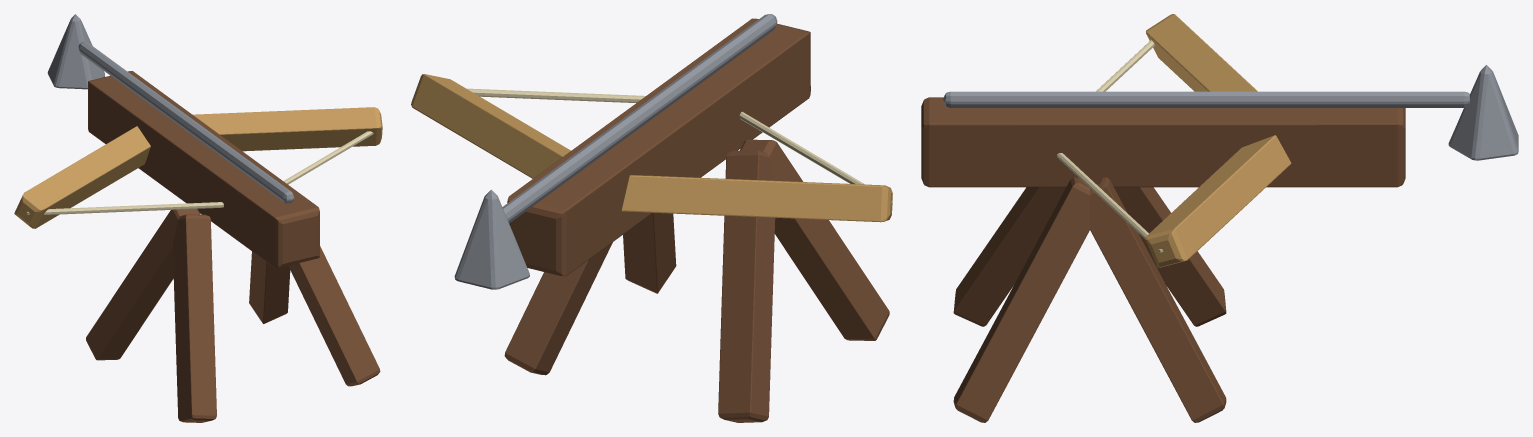
File: ballista.glb
3 views of the same model, side by side, from view 1: azimuth 30°, elevation 25°; view 2: azimuth 150°, elevation 25°; view 3: azimuth 270°, elevation 25° (orthographic). The views are drawn at different scales.
Visible parts, largest first — view 1: _MeshInstance3D_456, _MeshInstance3D_452, _MeshInstance3D_459, _MeshInstance3D_453, _MeshInstance3D_457, _MeshInstance3D_454, _MeshInstance3D_461, _MeshInstance3D_462, _MeshInstance3D_455, _MeshInstance3D_458, _MeshInstance3D_460; view 2: _MeshInstance3D_456, _MeshInstance3D_453, _MeshInstance3D_457, _MeshInstance3D_452, _MeshInstance3D_459, _MeshInstance3D_461, _MeshInstance3D_455, _MeshInstance3D_462, _MeshInstance3D_454, _MeshInstance3D_460, _MeshInstance3D_458; view 3: _MeshInstance3D_456, _MeshInstance3D_454, _MeshInstance3D_455, _MeshInstance3D_461, _MeshInstance3D_459, _MeshInstance3D_452, _MeshInstance3D_453, _MeshInstance3D_457, _MeshInstance3D_462, _MeshInstance3D_460.
Part boxes in pixels (bbox=[...]): _MeshInstance3D_456: bbox=[88, 71, 319, 268]; _MeshInstance3D_452: bbox=[172, 214, 216, 422]; _MeshInstance3D_459: bbox=[193, 107, 382, 151]; _MeshInstance3D_453: bbox=[86, 209, 200, 360]; _MeshInstance3D_457: bbox=[14, 126, 150, 228]; _MeshInstance3D_454: bbox=[288, 246, 380, 386]; _MeshInstance3D_461: bbox=[78, 42, 294, 203]; _MeshInstance3D_462: bbox=[47, 14, 104, 89]; _MeshInstance3D_455: bbox=[249, 251, 290, 323]; _MeshInstance3D_458: bbox=[26, 202, 223, 214]; _MeshInstance3D_460: bbox=[283, 131, 373, 184]; _MeshInstance3D_456: bbox=[507, 18, 810, 276]; _MeshInstance3D_453: bbox=[718, 150, 775, 422]; _MeshInstance3D_457: bbox=[621, 175, 892, 222]; _MeshInstance3D_452: bbox=[740, 139, 889, 340]; _MeshInstance3D_459: bbox=[411, 74, 570, 178]; _MeshInstance3D_461: bbox=[502, 14, 777, 223]; _MeshInstance3D_455: bbox=[504, 242, 612, 375]; _MeshInstance3D_462: bbox=[454, 189, 529, 289]; _MeshInstance3D_454: bbox=[623, 213, 676, 293]; _MeshInstance3D_460: bbox=[467, 88, 645, 102]; _MeshInstance3D_458: bbox=[739, 111, 892, 204]; _MeshInstance3D_456: bbox=[921, 97, 1405, 187]; _MeshInstance3D_454: bbox=[953, 177, 1089, 422]; _MeshInstance3D_455: bbox=[1090, 177, 1226, 422]; _MeshInstance3D_461: bbox=[943, 91, 1469, 107]; _MeshInstance3D_459: bbox=[1146, 135, 1291, 267]; _MeshInstance3D_452: bbox=[953, 187, 1065, 326]; _MeshInstance3D_453: bbox=[1114, 187, 1226, 326]; _MeshInstance3D_457: bbox=[1146, 14, 1257, 91]; _MeshInstance3D_462: bbox=[1448, 65, 1518, 160]; _MeshInstance3D_460: bbox=[1057, 153, 1163, 253].
Size of the model in its own units: 2.61 by 1.67 by 2.95.
